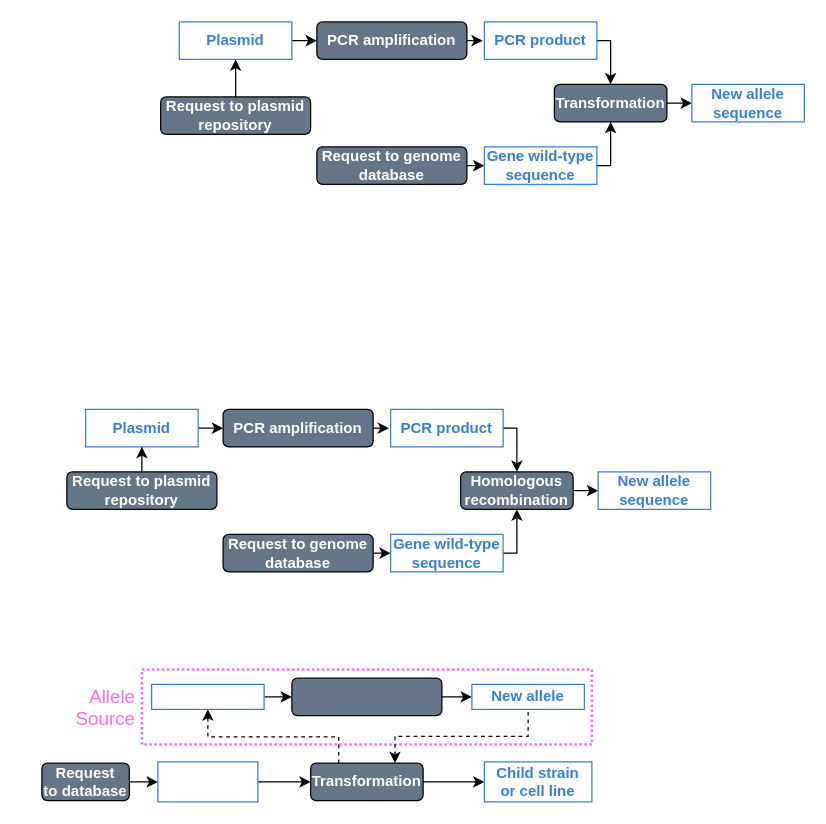
This 826x824 diagram has some shape labels left out. Here are the shapes that lost their labels. From the top down, the centre of each, then its label:
At point 207,696: "Parent allele".
At point 366,696: "Cloning strategy (previous figure)".
At point 207,781: "Parent strain or cell line".
